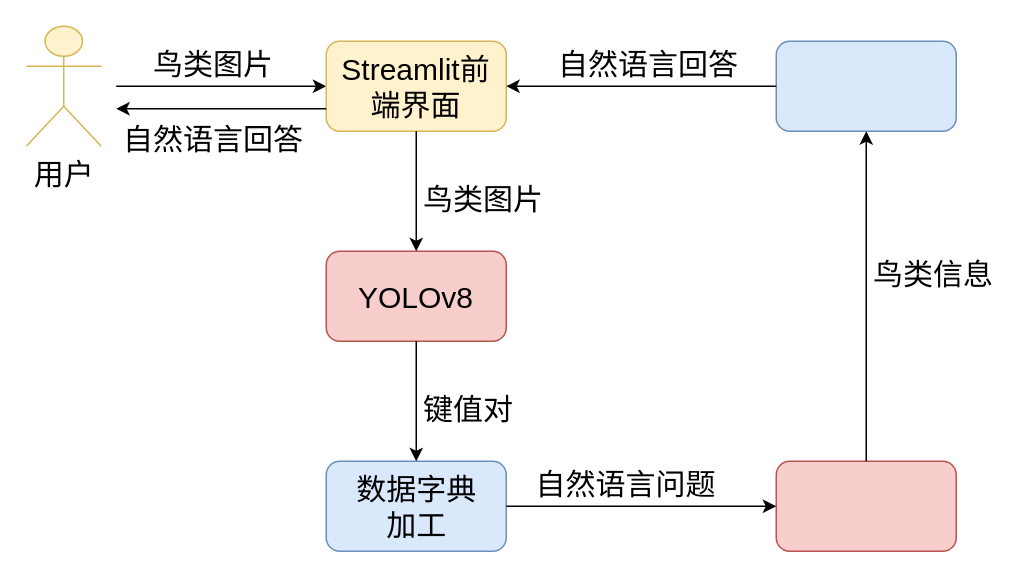
The diagram is 1028 pixels wide and 578 high, and some of its shapes have lost their labels. The box of each missing label's shape, as (x1, y1, x2, y2) in pixels:
CHATGLM: (775, 460, 956, 551)
适用前端格式的字符串: (775, 40, 956, 131)
